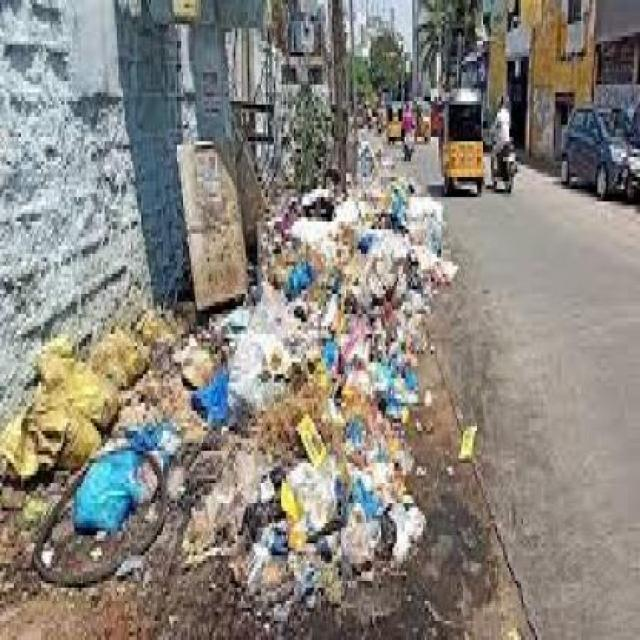garbage: (0, 174, 443, 592)
